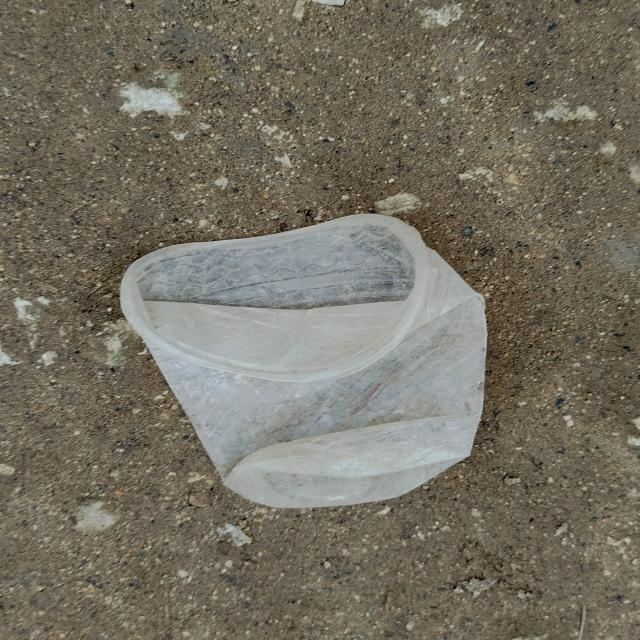plastic: (104, 202, 524, 524)
